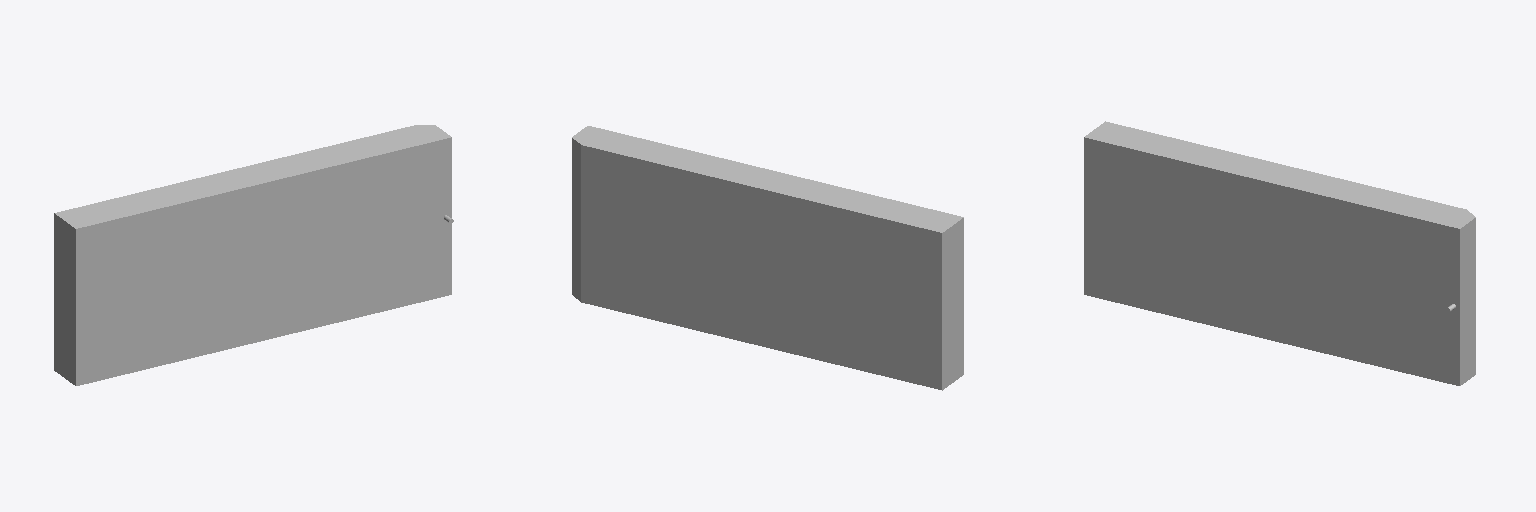
File: barge.obj
The picture shows the model from 3 angles: view 1: azimuth 30°, elevation 25°; view 2: azimuth 150°, elevation 25°; view 3: azimuth 330°, elevation 25°; orthographic projection.
Size of the model in its own units: 100 by 40 by 12.54.